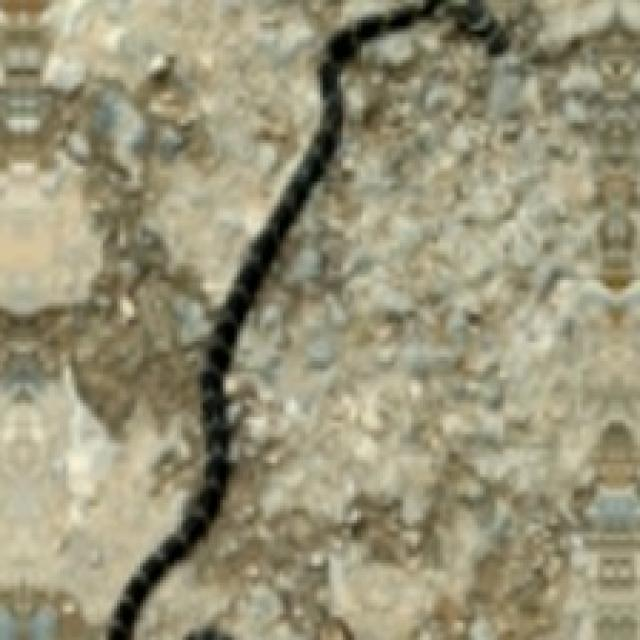king cobra: (106, 0, 506, 637)
